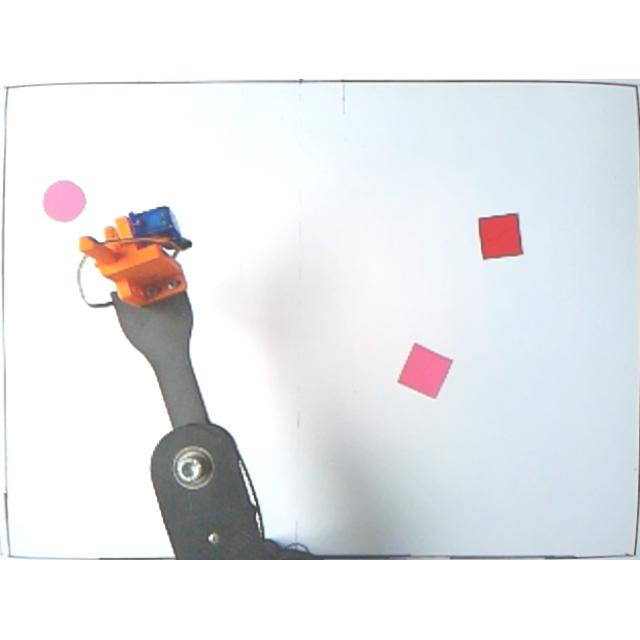pinkCircle: (42, 180, 86, 226)
pinkSquare: (396, 344, 454, 401)
redSquare: (476, 214, 526, 266)
